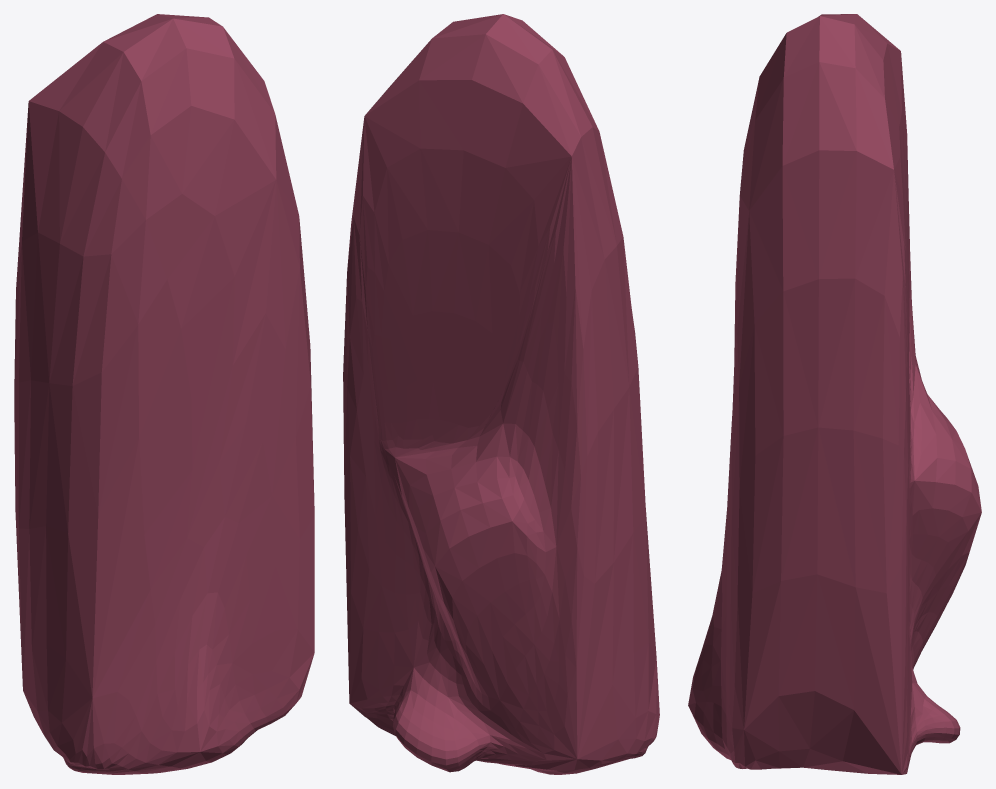
The picture shows the model from 3 angles, left to right: view 1: azimuth 30°, elevation 25°; view 2: azimuth 150°, elevation 25°; view 3: azimuth 270°, elevation 25°; orthographic projection. The views are drawn at different scales.
Visible parts, largest first — view 1: 694_Cube.2787; view 2: 694_Cube.2787; view 3: 694_Cube.2787.
Boxes of the visible parts, <box> form: 694_Cube.2787: <box>14,14,314,774</box>; 694_Cube.2787: <box>343,14,659,774</box>; 694_Cube.2787: <box>688,14,981,774</box>.
Size of the model in its own units: 4.4 by 12.08 by 4.22.
